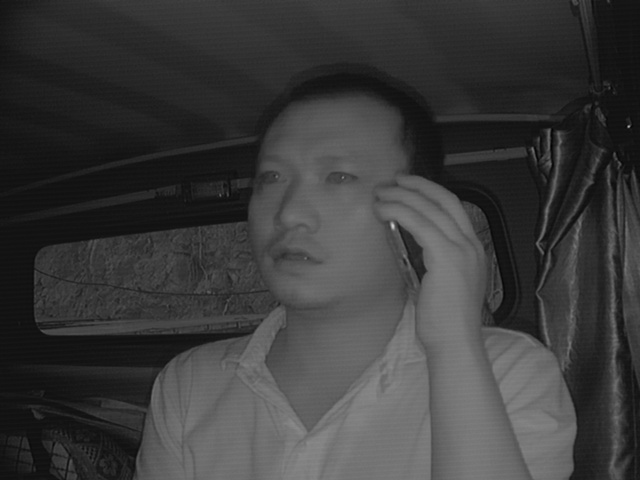hand: (376, 168, 495, 335)
